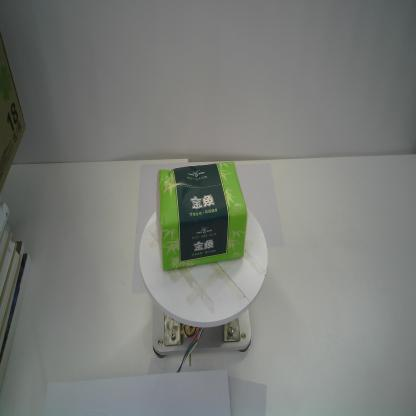Tissue: (152, 159, 249, 272)
